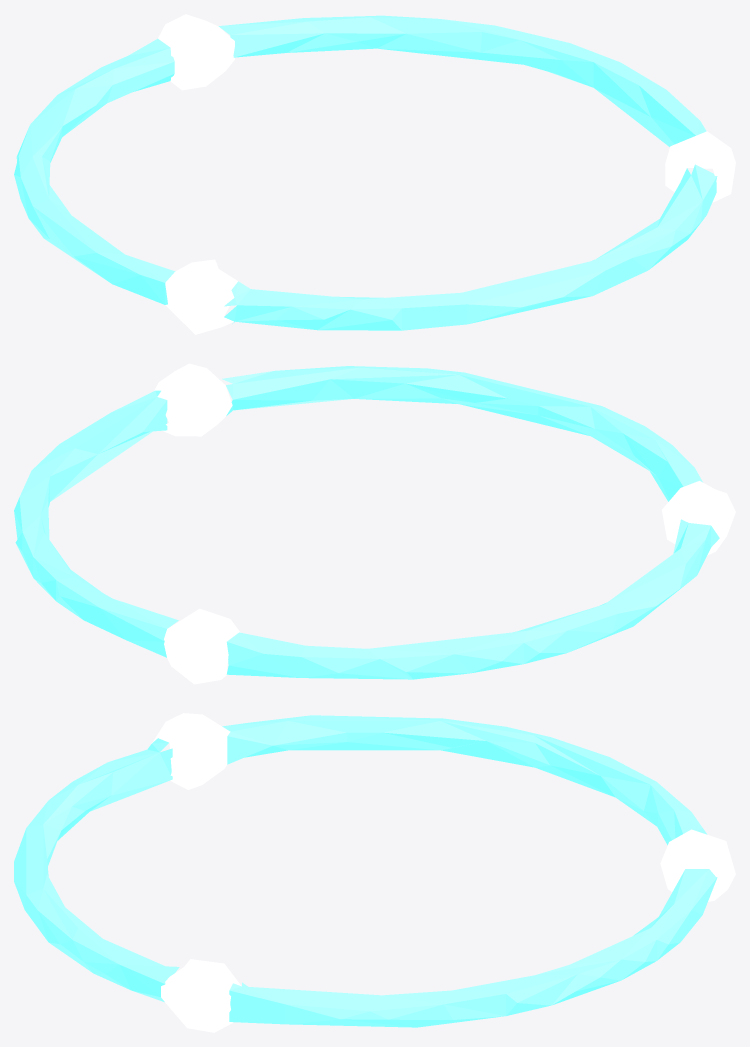
Rendered from lure_spirit_halo.glb.
3 views of the same model, one above another, from view 1: azimuth 30°, elevation 25°; view 2: azimuth 150°, elevation 25°; view 3: azimuth 270°, elevation 25° (orthographic).
Visible parts, largest first — view 1: lure_spirit_halo; view 2: lure_spirit_halo; view 3: lure_spirit_halo.
Part boxes in pixels (x1,y1,x2,y2): lure_spirit_halo: [14, 14, 735, 334]; lure_spirit_halo: [14, 363, 735, 684]; lure_spirit_halo: [14, 713, 735, 1032].
Bounding box in the file's own units: 0.3572 × 0.0369 × 0.3678.
